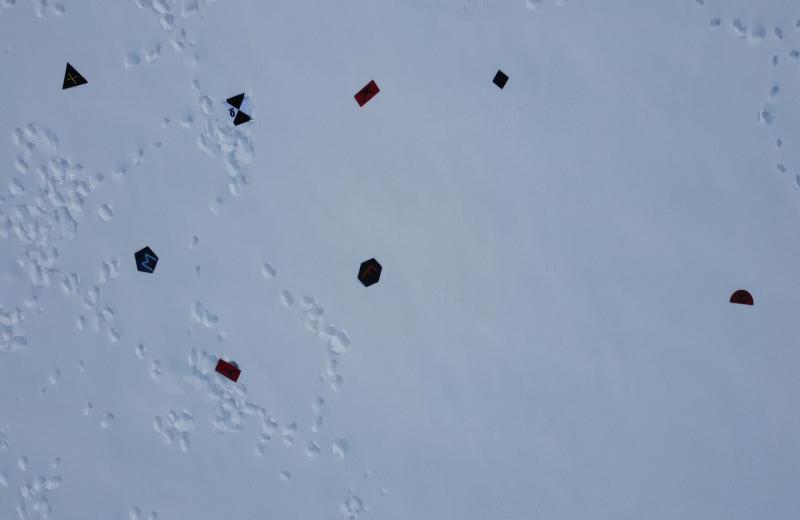Hexagon: (354, 255, 386, 290)
Pentagon: (132, 244, 163, 278)
Rectangle: (354, 77, 384, 108), (213, 356, 241, 387)
Semi Circle: (726, 287, 758, 311)
Square: (490, 66, 511, 92)
Triangle: (58, 59, 89, 93)
